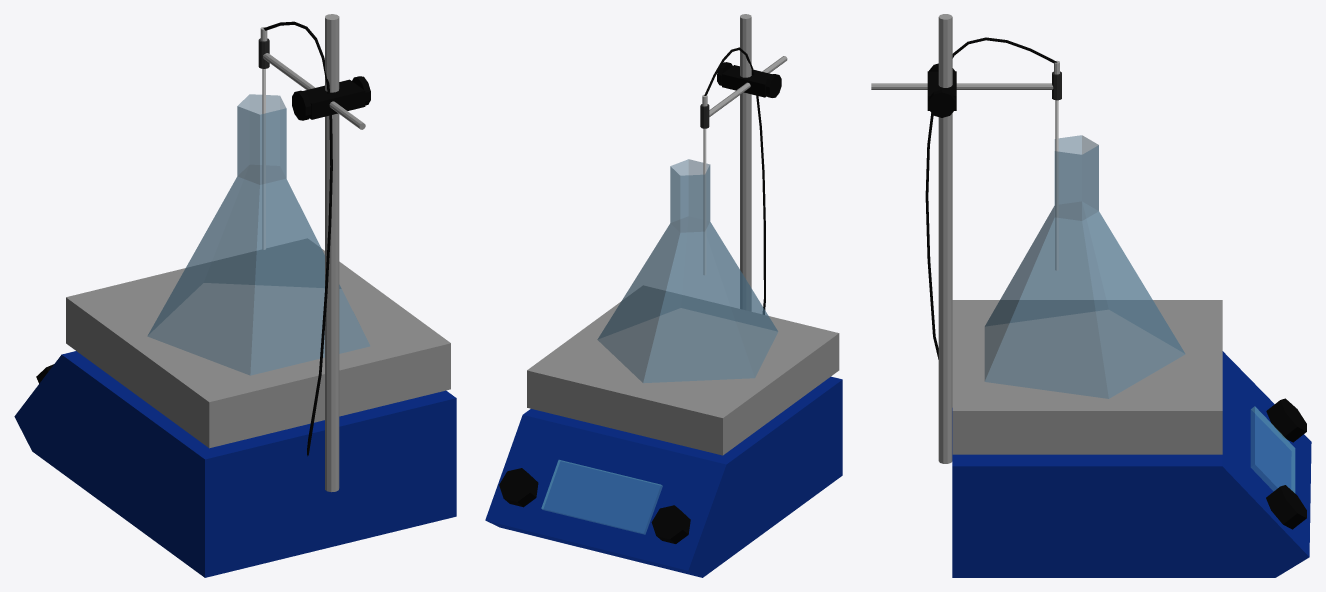
File: mixer.fbx
3 views of the same model, side by side, from view 1: azimuth 30°, elevation 25°; view 2: azimuth 150°, elevation 25°; view 3: azimuth 270°, elevation 25° (orthographic). The views are drawn at different scales.
Parts seen in each view (by area): view 1: Cube.002, Cube, Cone, Cylinder, BézierCurve, Cube.003, Cylinder.001, Cylinder.003; view 2: Cube.002, Cube, Cone, Cube.001, Cylinder, Cylinder.007, Cylinder.008, Cube.003, BézierCurve, Cylinder.003, Cylinder.001; view 3: Cube.002, Cube, Cone, Cylinder, Cube.001, BézierCurve, Cylinder.007, Cylinder.008, Cylinder.001, Cylinder.003, Cylinder.005.
Boxes of the visible parts, x1,y1,x2,y2 form: Cube.002: [14, 351, 456, 577]; Cube: [66, 238, 450, 448]; Cone: [147, 94, 369, 375]; Cylinder: [325, 14, 339, 492]; BézierCurve: [263, 21, 332, 456]; Cube.003: [304, 79, 365, 119]; Cylinder.001: [263, 53, 365, 129]; Cylinder.003: [262, 69, 265, 249]; Cube.002: [485, 376, 842, 577]; Cube: [527, 285, 839, 455]; Cone: [597, 159, 777, 383]; Cube.001: [541, 460, 662, 534]; Cylinder: [740, 14, 751, 311]; Cylinder.007: [499, 468, 538, 507]; Cylinder.008: [651, 505, 690, 543]; Cube.003: [722, 65, 771, 97]; BézierCurve: [704, 47, 765, 314]; Cylinder.003: [703, 128, 706, 275]; Cylinder.001: [709, 56, 787, 116]; Cube.002: [952, 351, 1311, 577]; Cube: [952, 300, 1222, 454]; Cone: [984, 135, 1185, 398]; Cylinder: [938, 14, 952, 463]; Cube.001: [1251, 406, 1295, 492]; BézierCurve: [925, 37, 1057, 359]; Cylinder.007: [1266, 485, 1306, 529]; Cylinder.008: [1266, 398, 1306, 442]; Cylinder.001: [871, 83, 1053, 89]; Cylinder.003: [1055, 100, 1058, 270]; Cylinder.005: [928, 90, 955, 117].
Bounding box in the file's own units: 1966 × 3983 × 3163.
